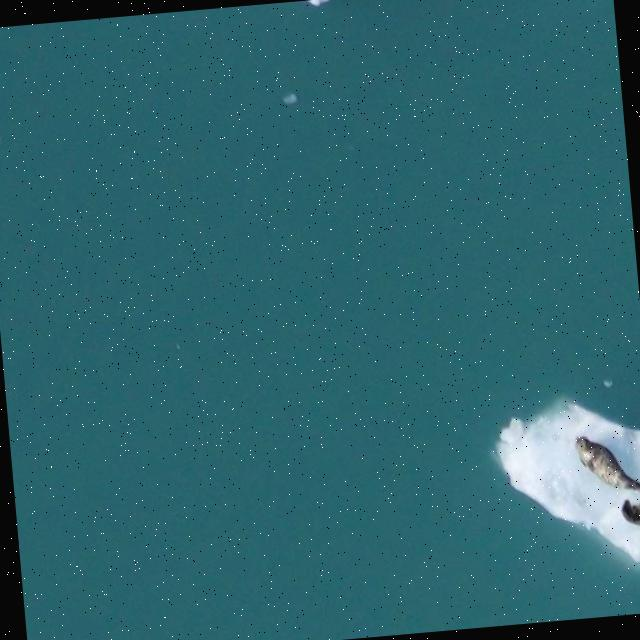seal: (575, 437, 640, 493), (623, 501, 640, 526)
